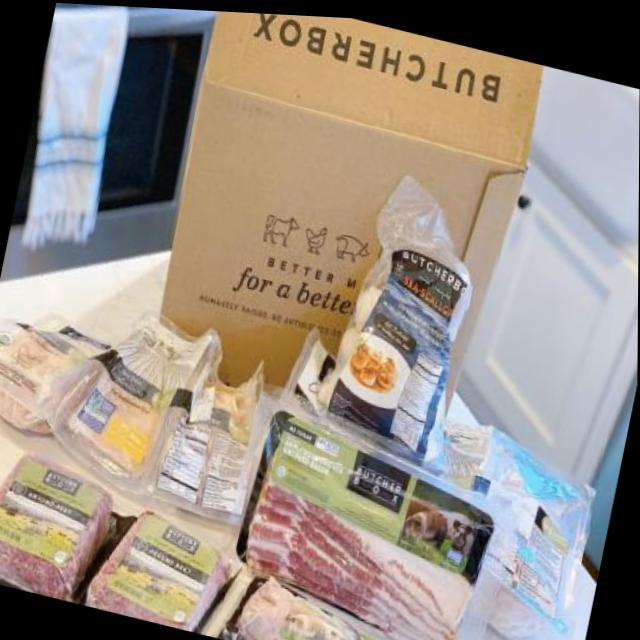box: (141, 6, 549, 440)
